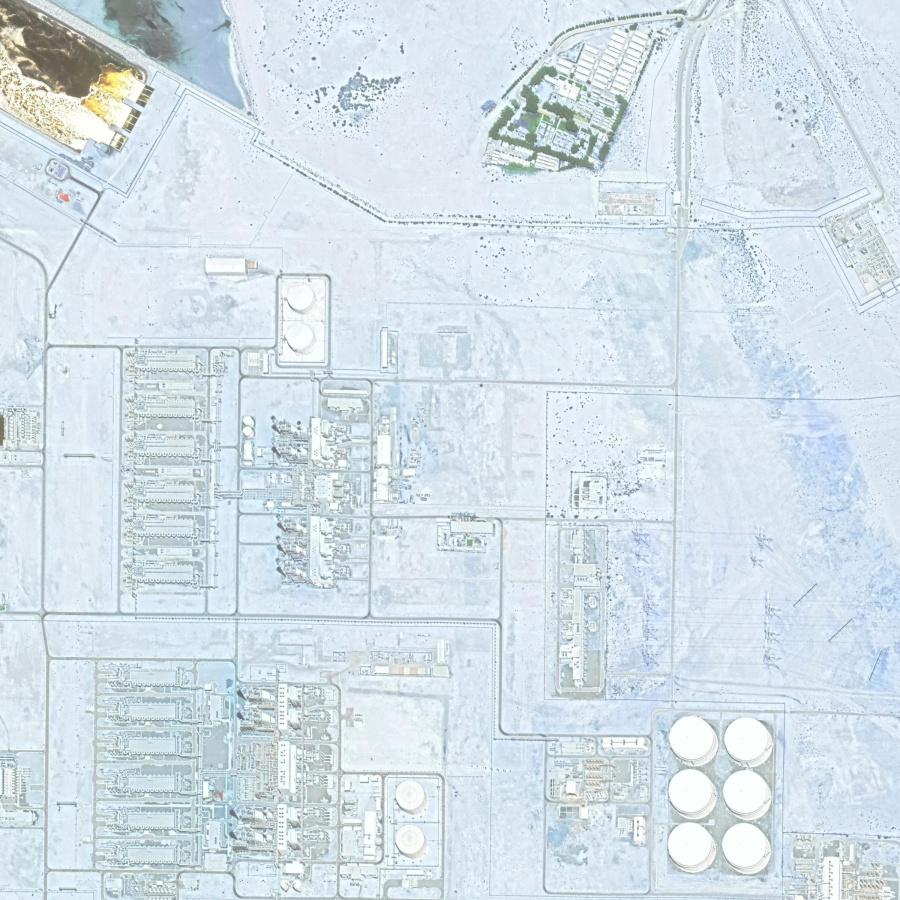PowerPlant: (118, 250, 450, 594)
